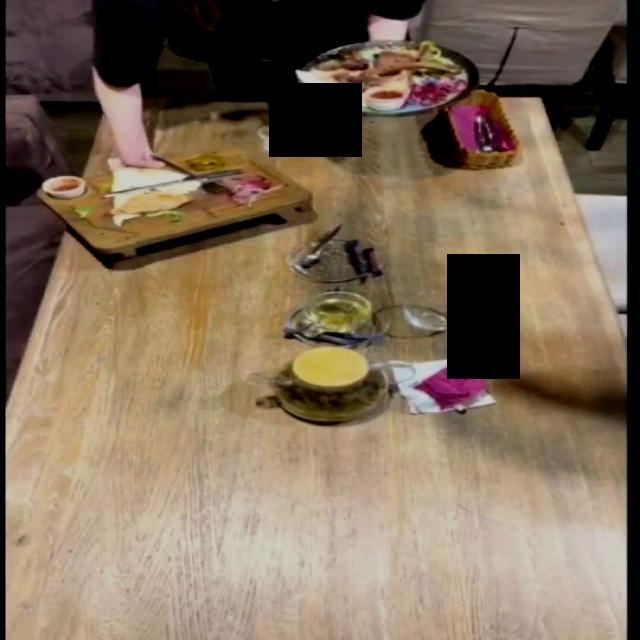meat: (33, 147, 312, 264), (288, 31, 476, 125)
tea: (245, 345, 385, 426)
